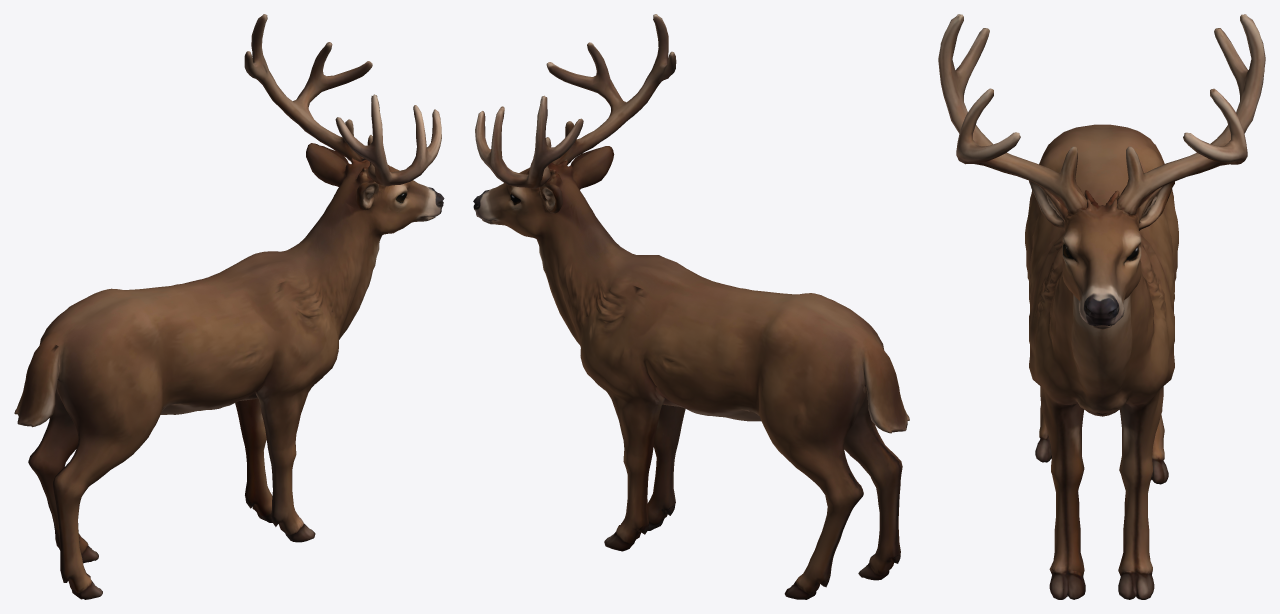
The model's file is deer 3d model.glb.
3 views of the same model, side by side, from view 1: azimuth 30°, elevation 25°; view 2: azimuth 150°, elevation 25°; view 3: azimuth 270°, elevation 25° (orthographic). The views are drawn at different scales.
Visible parts, largest first — view 1: tripo_node_264aac2b-220c-41f7-8042-d999b4e04d47; view 2: tripo_node_264aac2b-220c-41f7-8042-d999b4e04d47; view 3: tripo_node_264aac2b-220c-41f7-8042-d999b4e04d47.
Boxes of the visible parts, x1,y1,x2,y2 form: tripo_node_264aac2b-220c-41f7-8042-d999b4e04d47: (14,14,444,599); tripo_node_264aac2b-220c-41f7-8042-d999b4e04d47: (473,14,909,599); tripo_node_264aac2b-220c-41f7-8042-d999b4e04d47: (938,14,1265,599).
Bounding box in the file's own units: 0.9339 × 0.9799 × 0.4852.
1 material, 1 textured.
